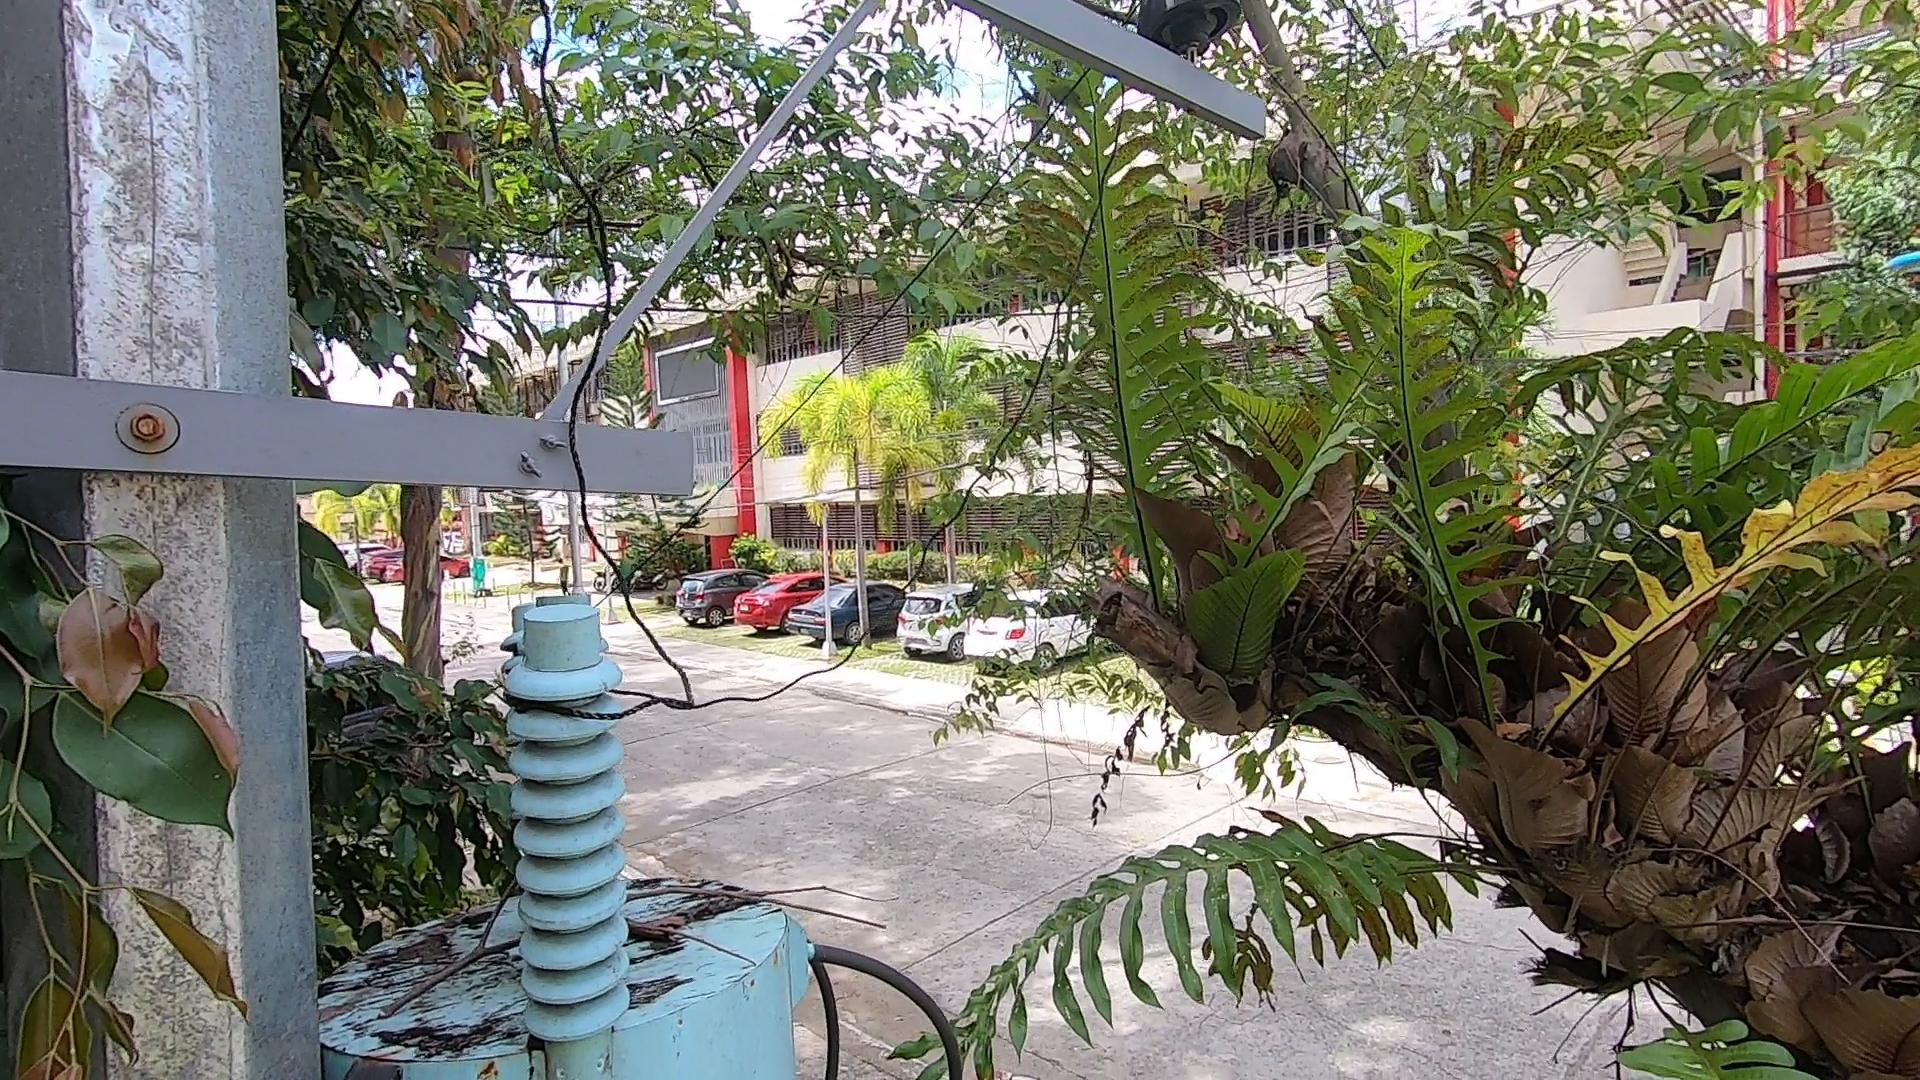branch with leaves: (20, 512, 270, 1080)
leaf: (365, 930, 488, 973), (622, 899, 695, 957)
tree branch: (345, 837, 895, 986)
